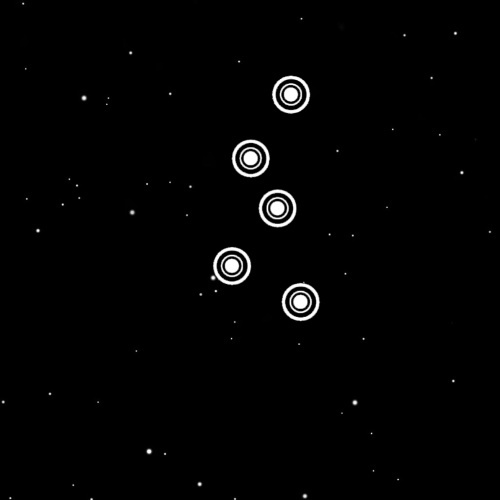cassiopeia: (197, 58, 331, 334)
